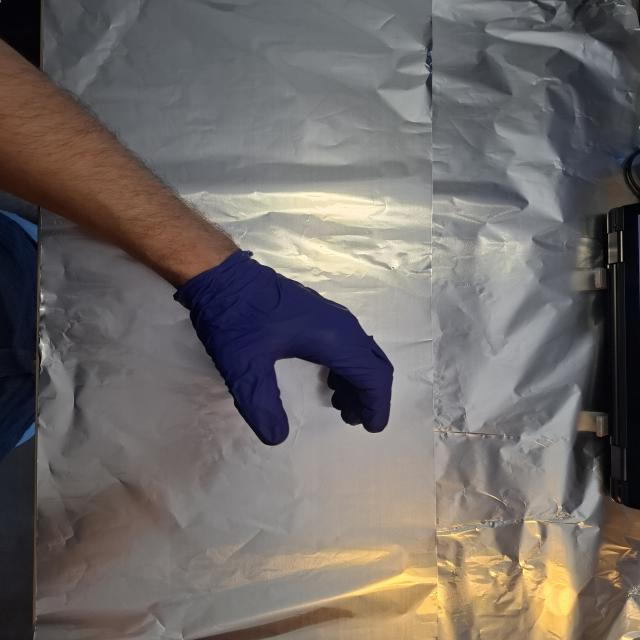glove_on: (172, 248, 399, 448)
